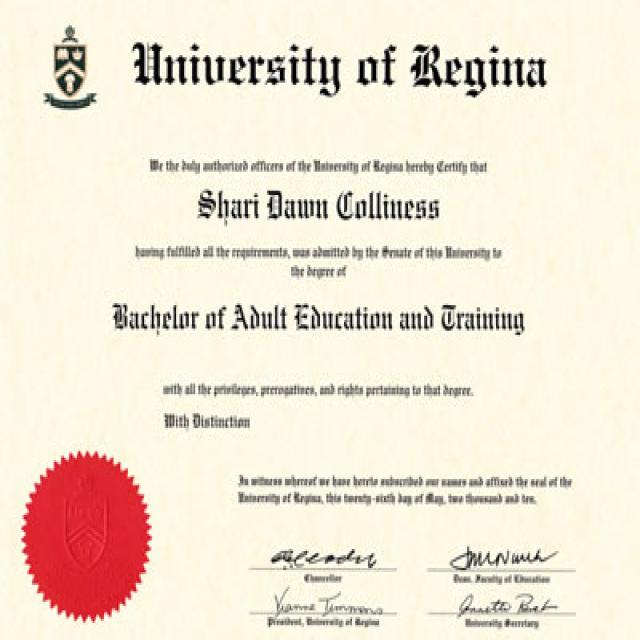degree: (108, 294, 532, 343)
signature: (268, 579, 390, 628), (267, 544, 386, 586), (453, 585, 560, 628), (454, 546, 558, 584)
